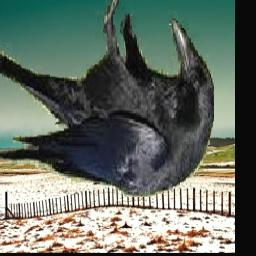Crow: (0, 0, 215, 197)
